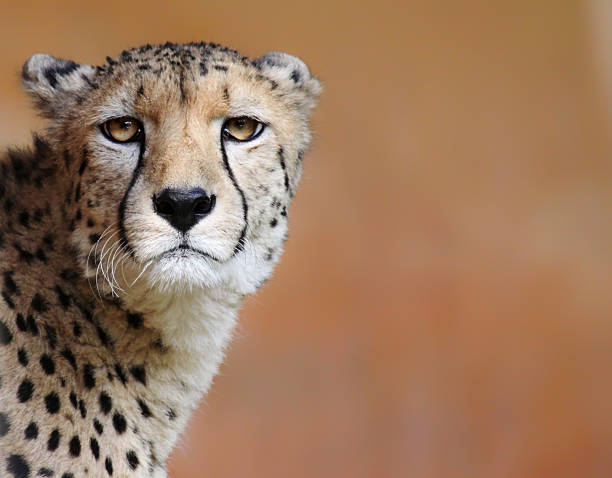cheetah: (9, 34, 349, 325)
